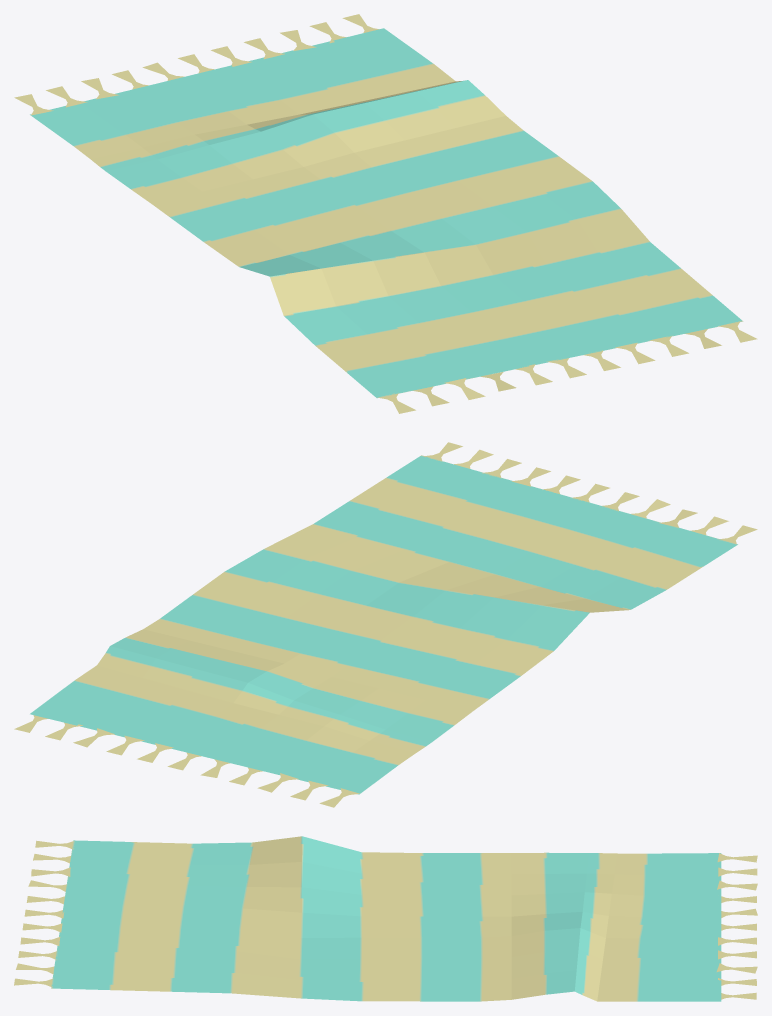
The model's file is Carpet.fbx.
3 renders of one model, top to bottom at view 1: azimuth 30°, elevation 25°; view 2: azimuth 150°, elevation 25°; view 3: azimuth 270°, elevation 25°, orthographic. The views are drawn at different scales.
Parts seen in each view (by area): view 1: Plane; view 2: Plane; view 3: Plane.
Part boxes in pixels (bbox=[...]): Plane: bbox=[14, 14, 757, 413]; Plane: bbox=[14, 442, 757, 807]; Plane: bbox=[14, 836, 757, 1001].
Bounding box in the file's own units: 5.08 × 0.2406 × 9.89.
Materials: 1 (1 with a texture image).
